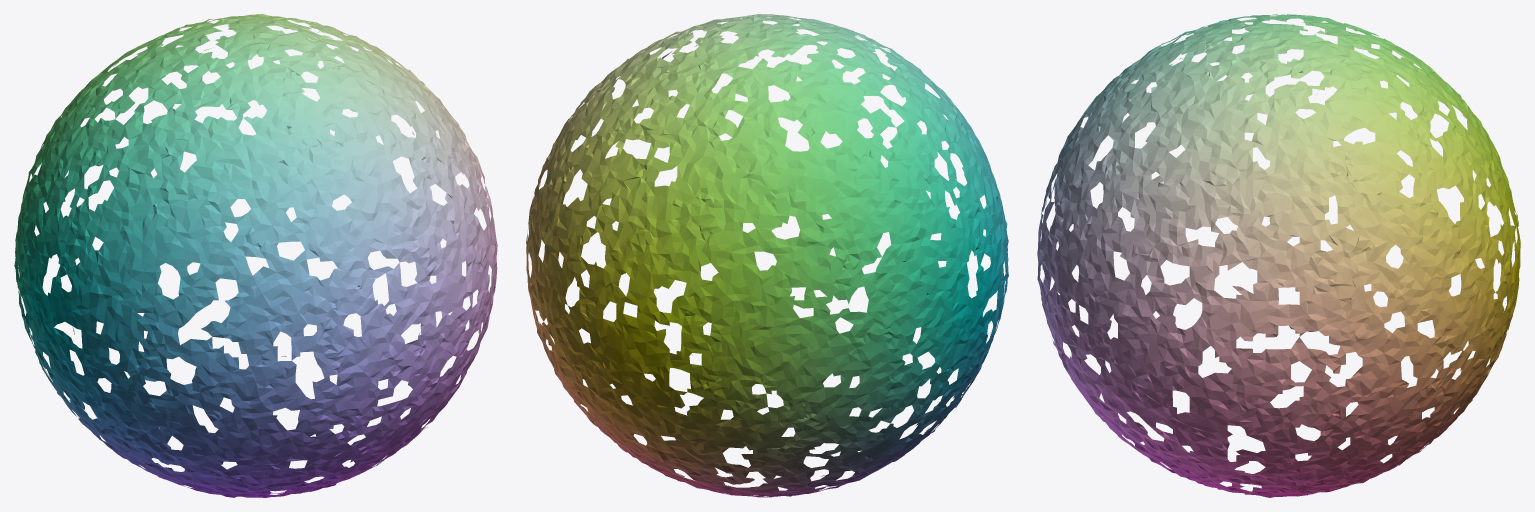
3 views of the same model, side by side, from view 1: azimuth 30°, elevation 25°; view 2: azimuth 150°, elevation 25°; view 3: azimuth 270°, elevation 25° (orthographic).
Parts seen in each view (by area): view 1: geometry_0; view 2: geometry_0; view 3: geometry_0.
Boxes of the visible parts, <box> form: geometry_0: <box>14,14,497,497</box>; geometry_0: <box>526,14,1008,497</box>; geometry_0: <box>1037,14,1520,497</box>.
Bounding box in the file's own units: 0.3012 × 0.3008 × 0.3012.
